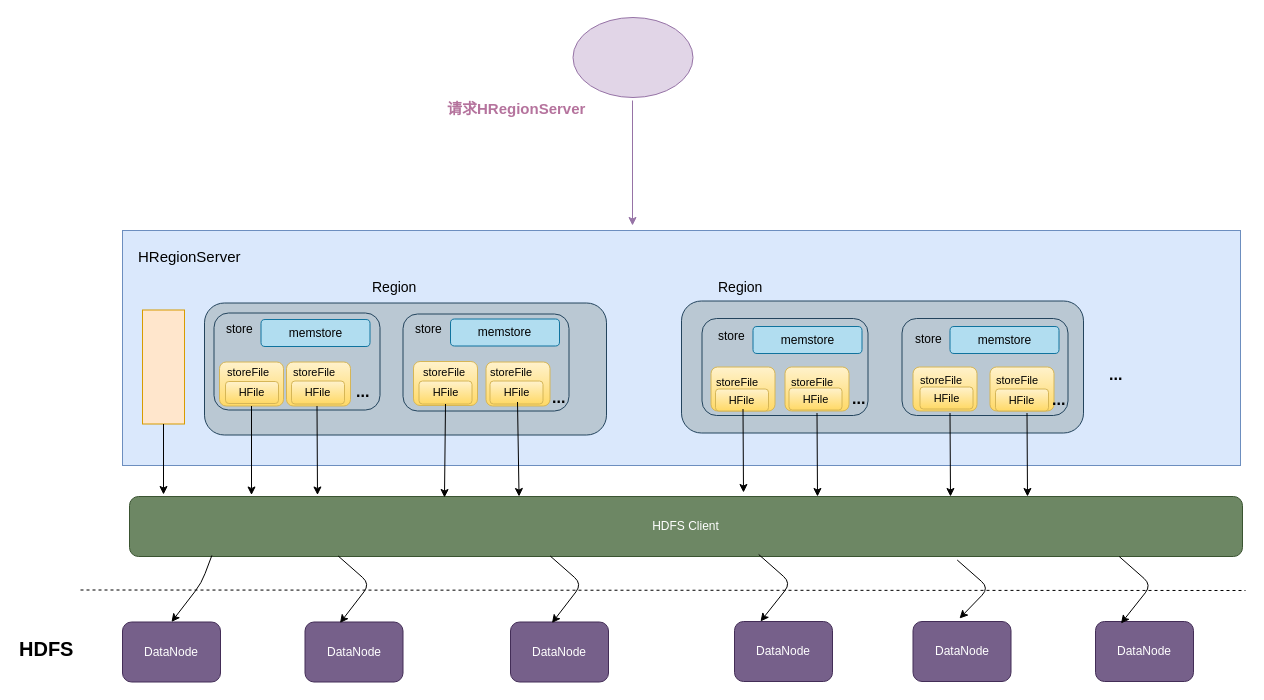
Image size: 1264x700. Some labels were removed from this diagram. The box of each missing label's shape, as (x1, y1, x2, y2) in pixels:
client客户端: (572, 16, 693, 98)
HLog: (142, 309, 184, 424)
